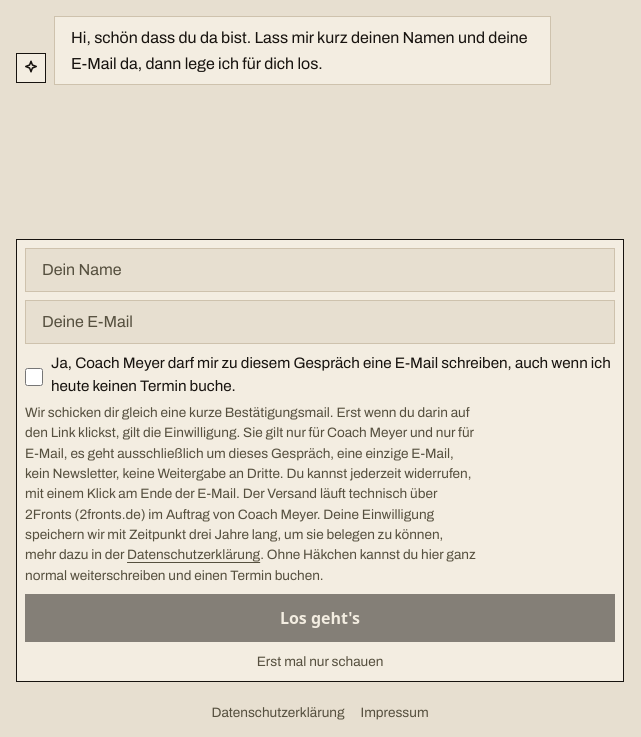
Test: ConciergePublicPage › submitting the contact form sends the contact and renders the opening reply
The image size is (641, 737).
Check: the checkbox is shown, box [25,355,43,399]
Type "Max" into the field with placeholder "Dein Name" at (320, 270), box [25,248,615,292]
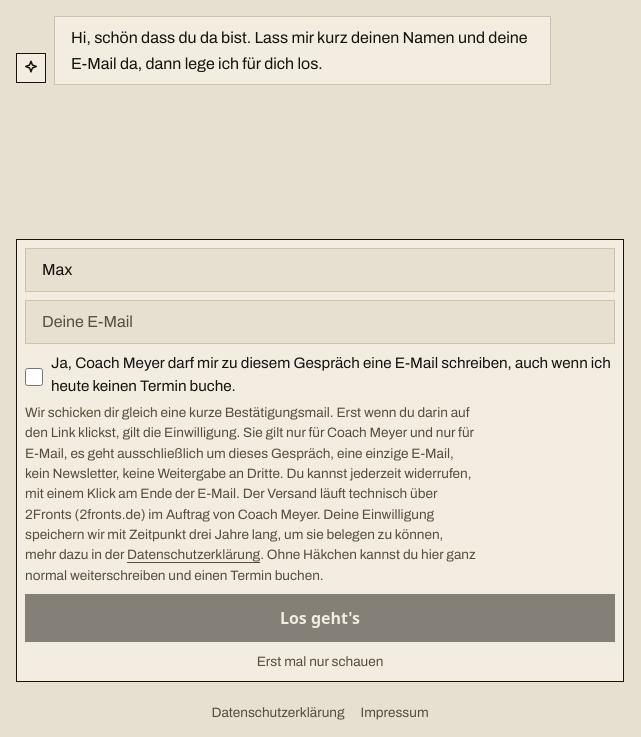
Type "max@example.com" into the field with placeholder "Deine E-Mail" at (320, 322), box [25,300,615,344]
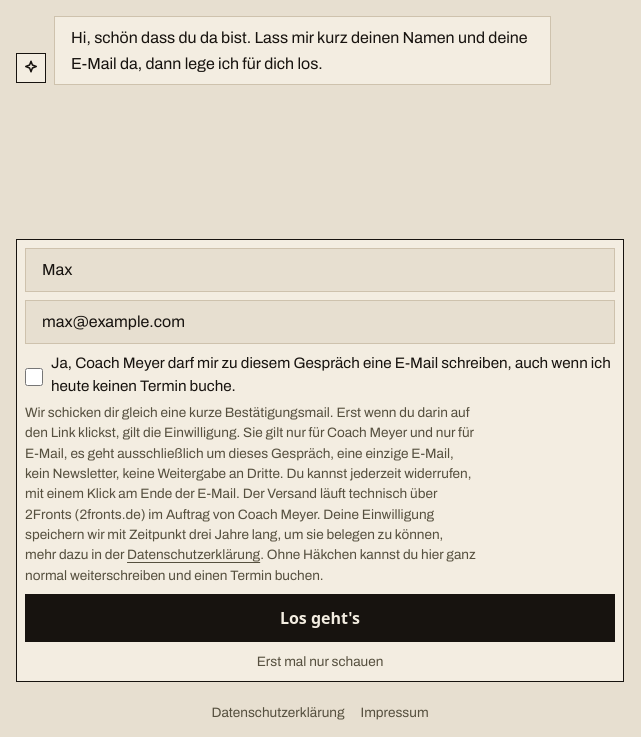
Click the button "Los geht's" at (320, 618), box [25,594,615,642]
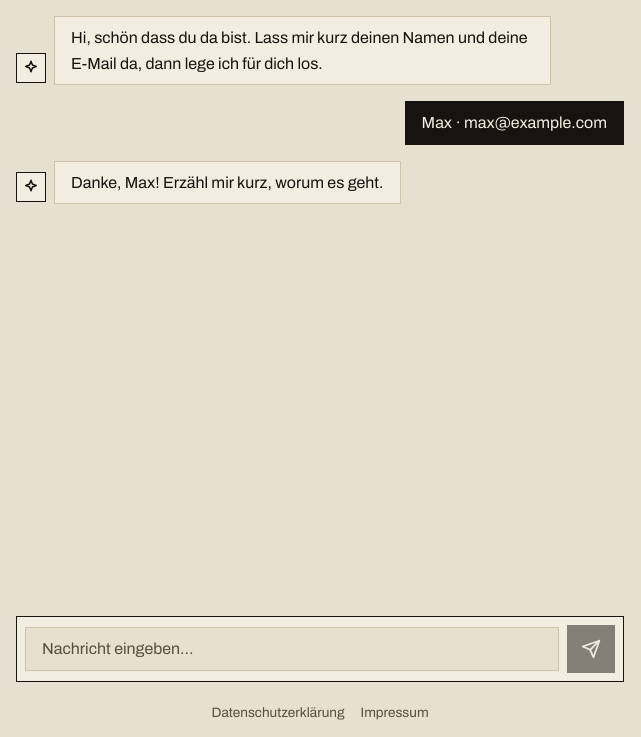
Check: the text "Danke, Max! Erzähl mir kurz, worum es geht." is shown, box [54,161,400,204]
Check: the field with placeholder "Nachricht eingeben…" is shown, box [25,627,559,671]
